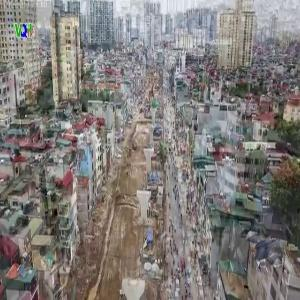drone: (232, 227, 287, 282)
